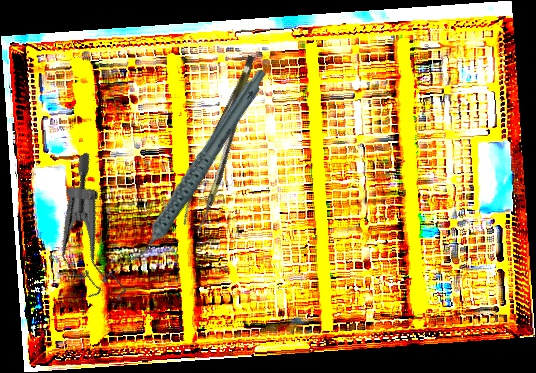Handpiece: (91, 66, 301, 267)
Speculum: (17, 150, 170, 316)
Tissue Forceps: (172, 55, 276, 232)
